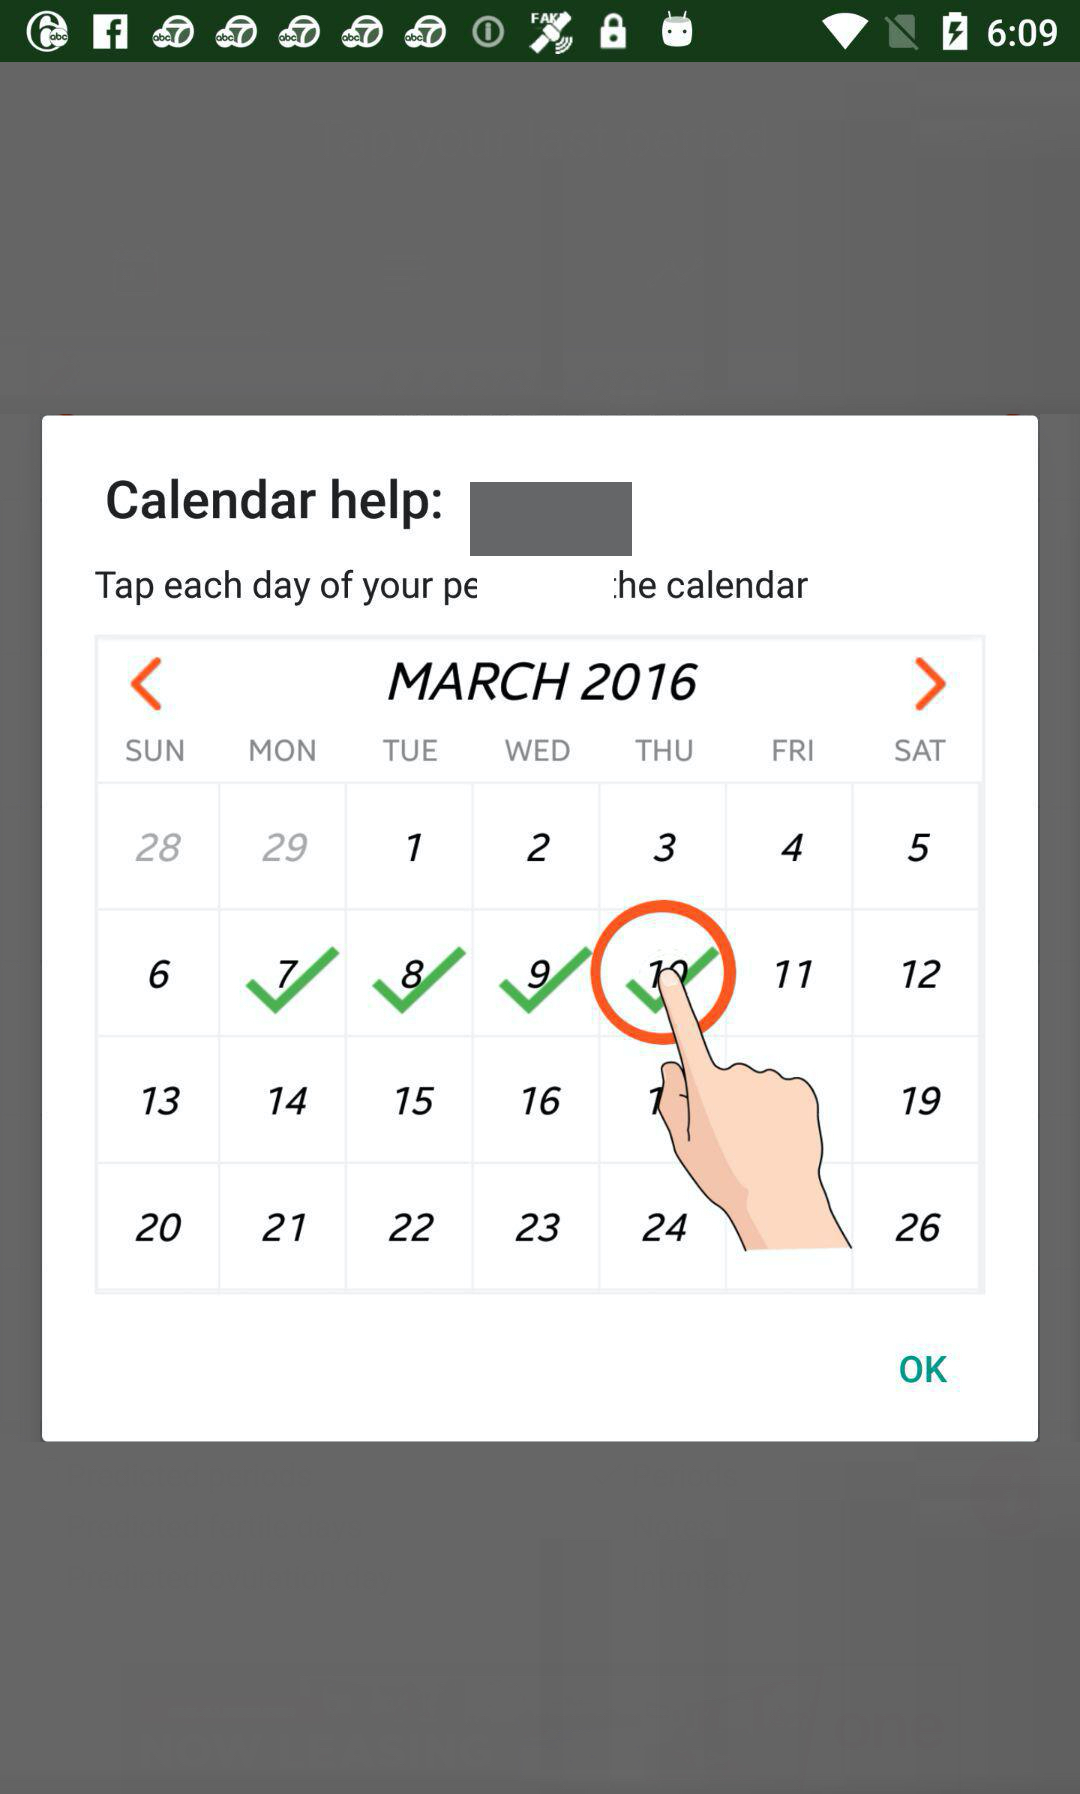Image: (96, 636, 985, 1296)
Modal: (42, 415, 1039, 1442)
Text: (94, 569, 808, 607), (108, 477, 443, 531), (899, 1354, 948, 1384)
UpperTaskBar: (1, 1, 1080, 64)
